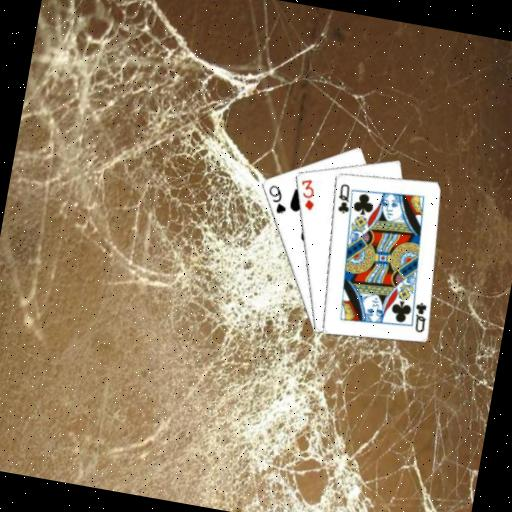3D: (293, 174, 319, 212)
9S: (261, 180, 291, 216)
QC: (332, 179, 354, 215), (408, 298, 430, 334)
